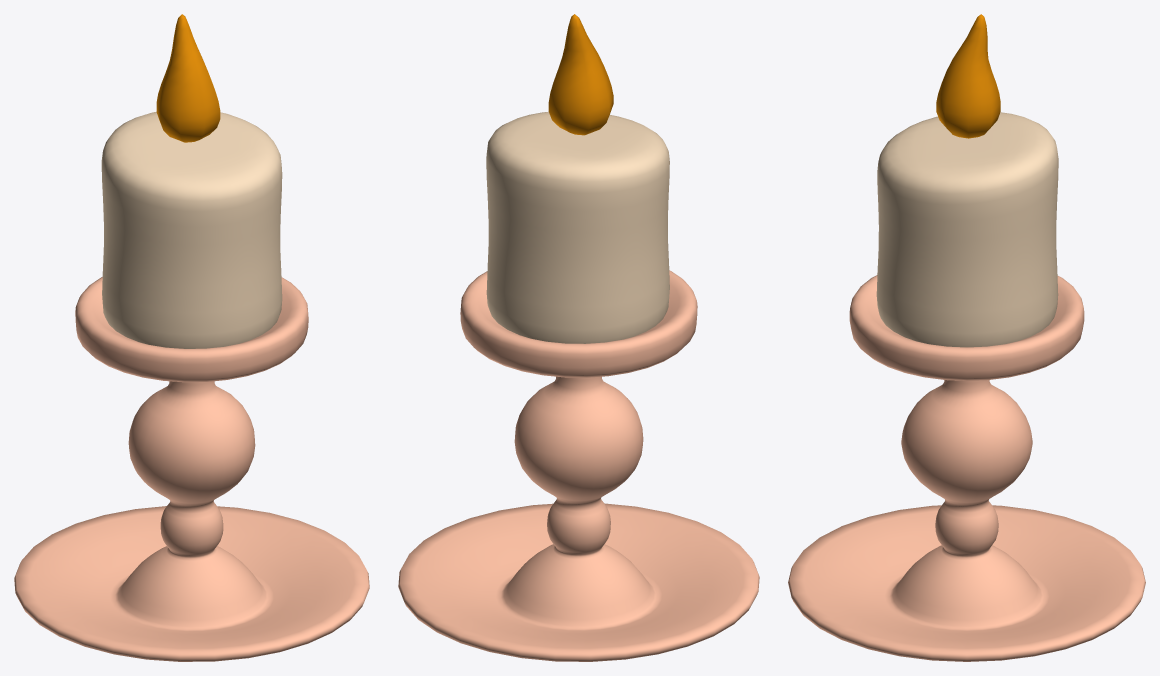
File: luigi_candles.fbx
The picture shows the model from 3 angles, left to right: view 1: azimuth 30°, elevation 25°; view 2: azimuth 150°, elevation 25°; view 3: azimuth 270°, elevation 25°; orthographic projection.
Parts seen in each view (by area): view 1: candle_metal; view 2: candle_metal; view 3: candle_metal.
Boxes of the visible parts, x1,y1,x2,y2 form: candle_metal: (14, 14, 369, 661); candle_metal: (398, 14, 759, 661); candle_metal: (788, 14, 1145, 661).
Size of the model in its own units: 32.75 by 61.47 by 32.75.
